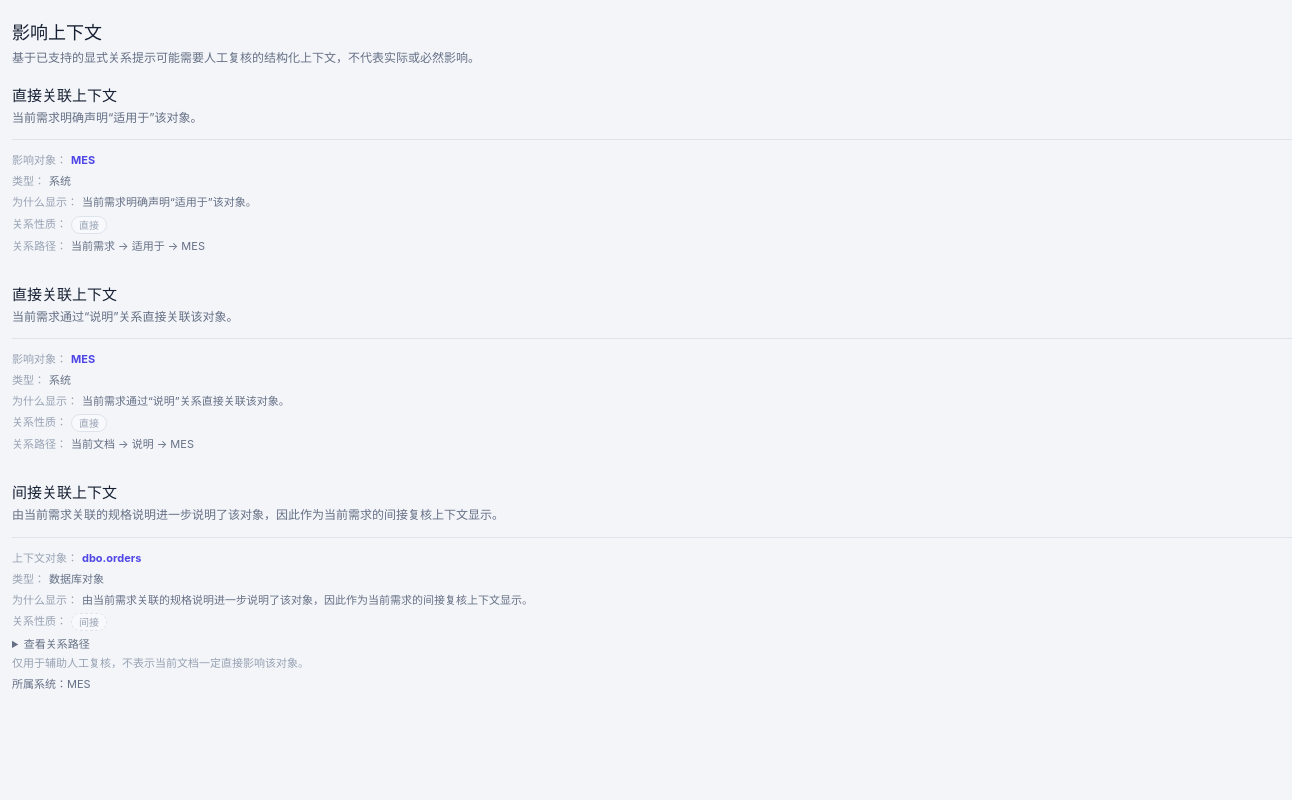
ImpactContextSection › renders Requirement meanings as separate compact groups and preserves same-target meanings
Expected: the number of buttons named "打开系统 MES" is 2, [71,152,95,169]; [71,351,95,368]
What coordinates should you click on to do the following:
click the heading "查看关系路径"
I would click on:
 (51, 643)
Its box is [12,635,90,651].
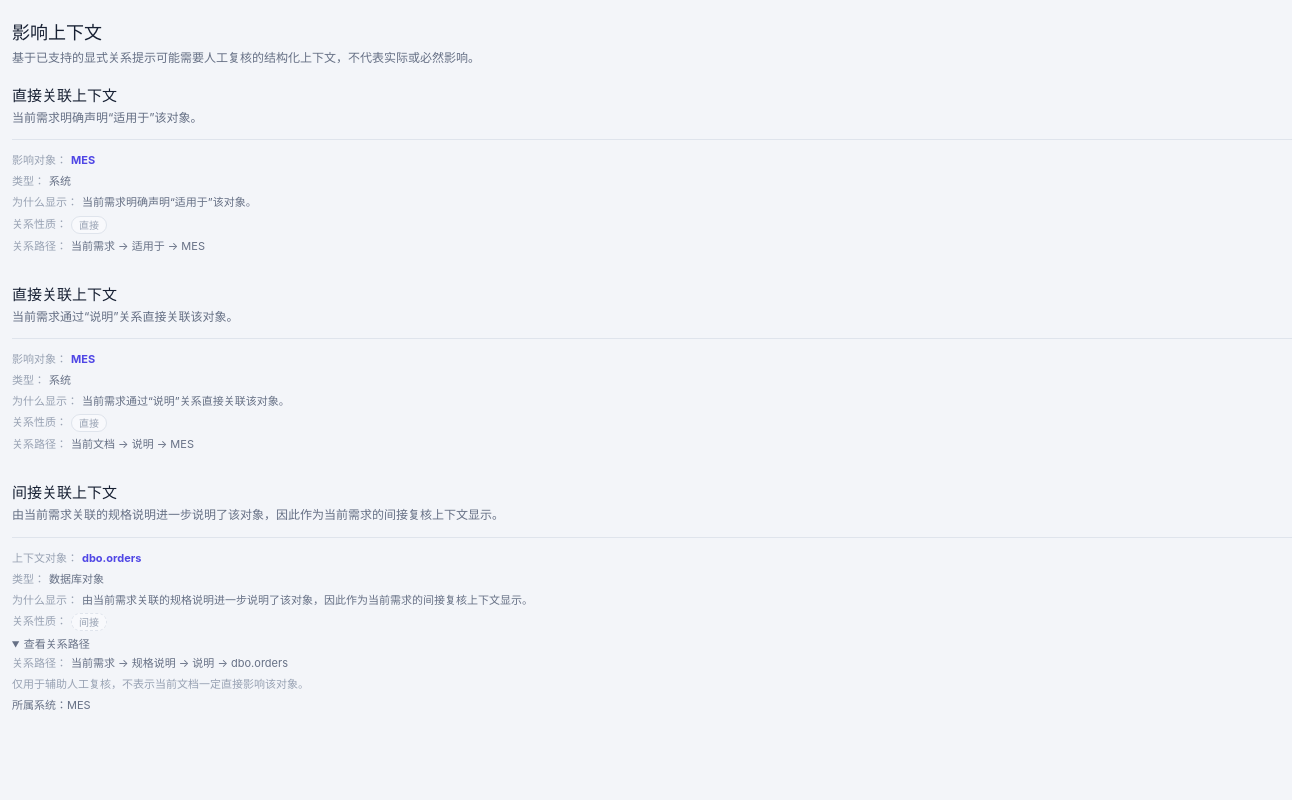
Expected: the text "仅用于辅助人工复核，不表示当前文档一定直接影响该对象。" is shown, [12,677,309,691]
Expected: the text "当前需求 → 规格说明 → 说明 → dbo.orders" is shown, [71,656,288,670]
